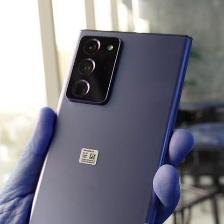phone: (20, 24, 198, 224)
